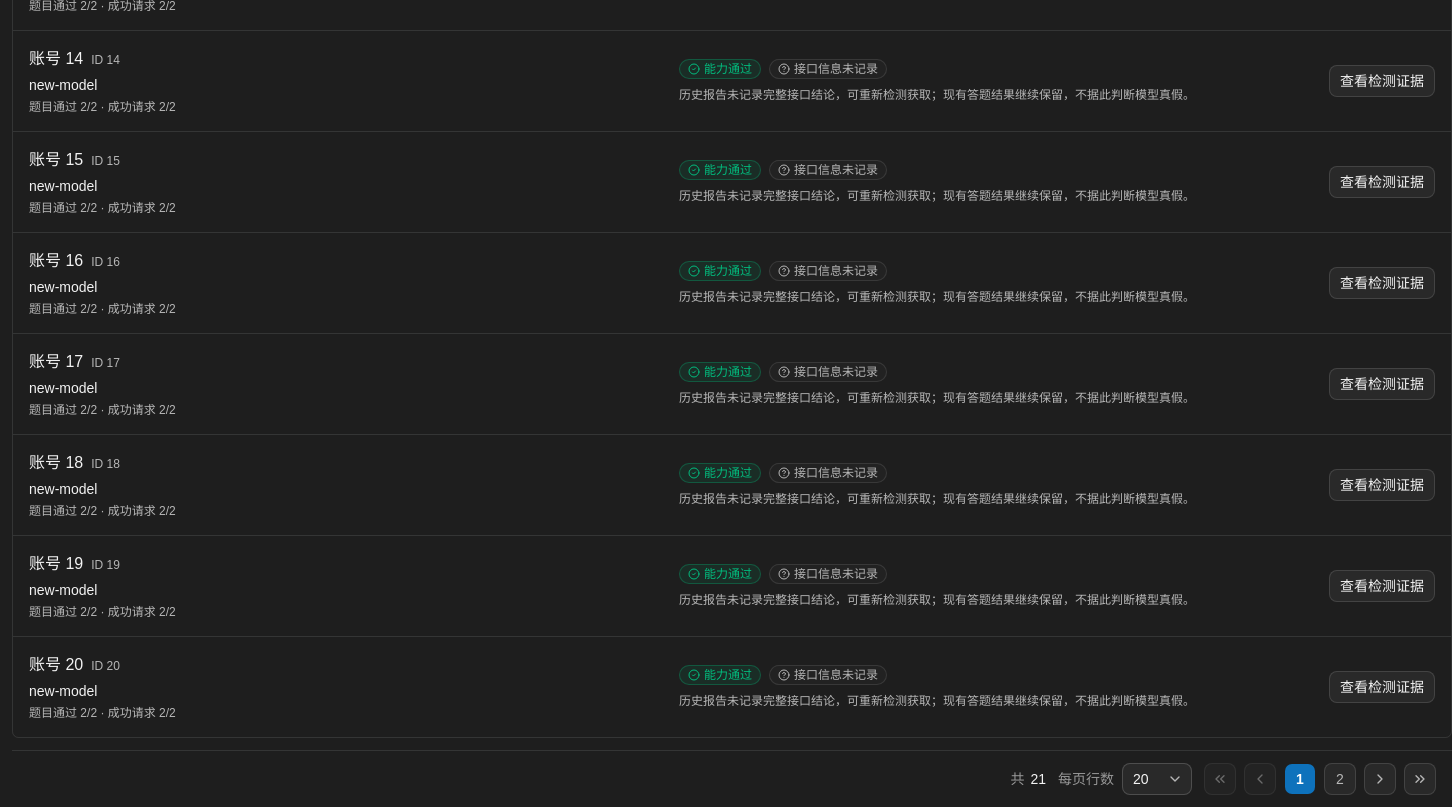
Test: 多组合结果可翻页查看且少量结果不显示分页控件
(page scrolled)
Expected: the text "账号 20" is shown, top-left (29, 656), bottom-right (83, 673)
Expected: the text "账号 21" is not shown
Click the button named "转到第 2 页": {"x": 1340, "y": 779} top-left (1324, 763), bottom-right (1356, 795)
(page scrolled)
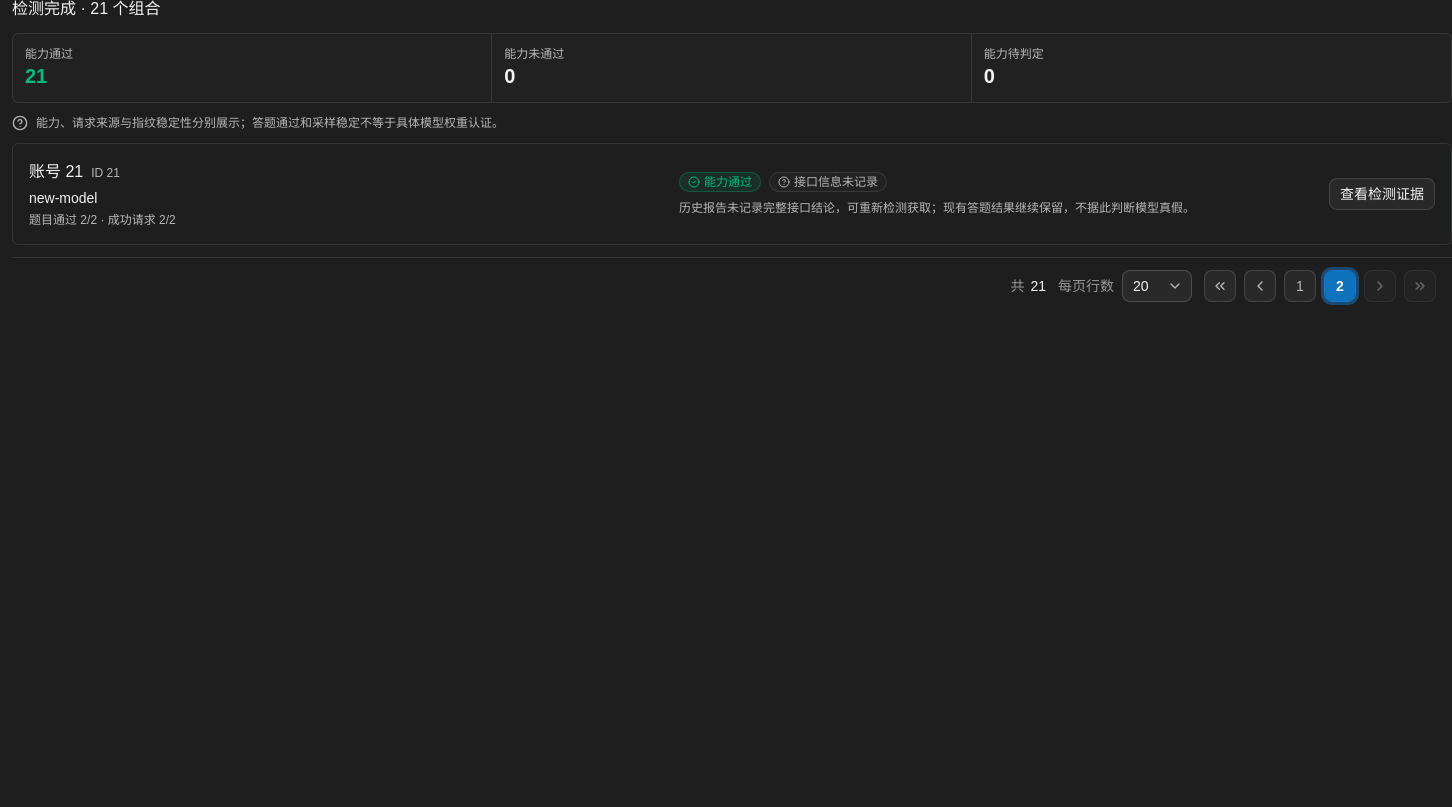
Expected: the text "账号 21" is shown, top-left (29, 163), bottom-right (83, 180)
